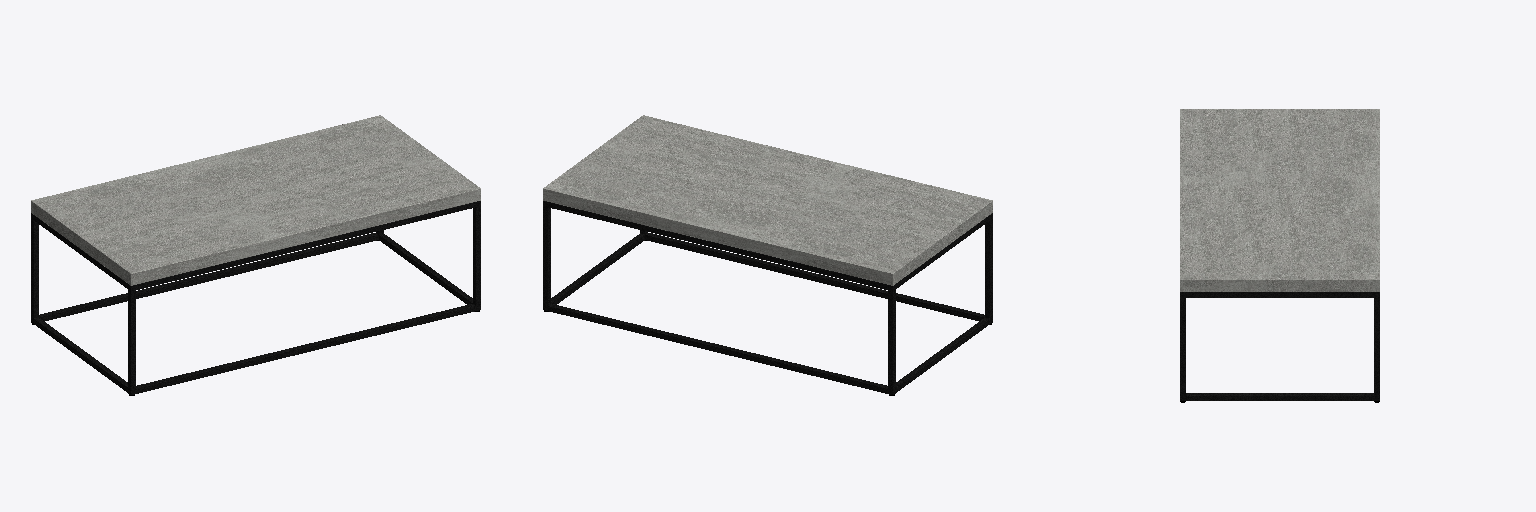
3 renders of one model, left to right at view 1: azimuth 30°, elevation 25°; view 2: azimuth 150°, elevation 25°; view 3: azimuth 270°, elevation 25°, orthographic.
Parts seen in each view (by area): view 1: tabletop, metal_base; view 2: tabletop, metal_base; view 3: tabletop, metal_base.
Boxes of the visible parts, x1,y1,x2,y2 form: tabletop: [31, 115, 480, 285]; metal_base: [31, 201, 480, 394]; tabletop: [543, 115, 992, 285]; metal_base: [543, 201, 992, 394]; tabletop: [1180, 109, 1379, 291]; metal_base: [1180, 292, 1379, 400].
Size of the model in its own units: 119 by 40 by 59.
3 materials, 2 textured.